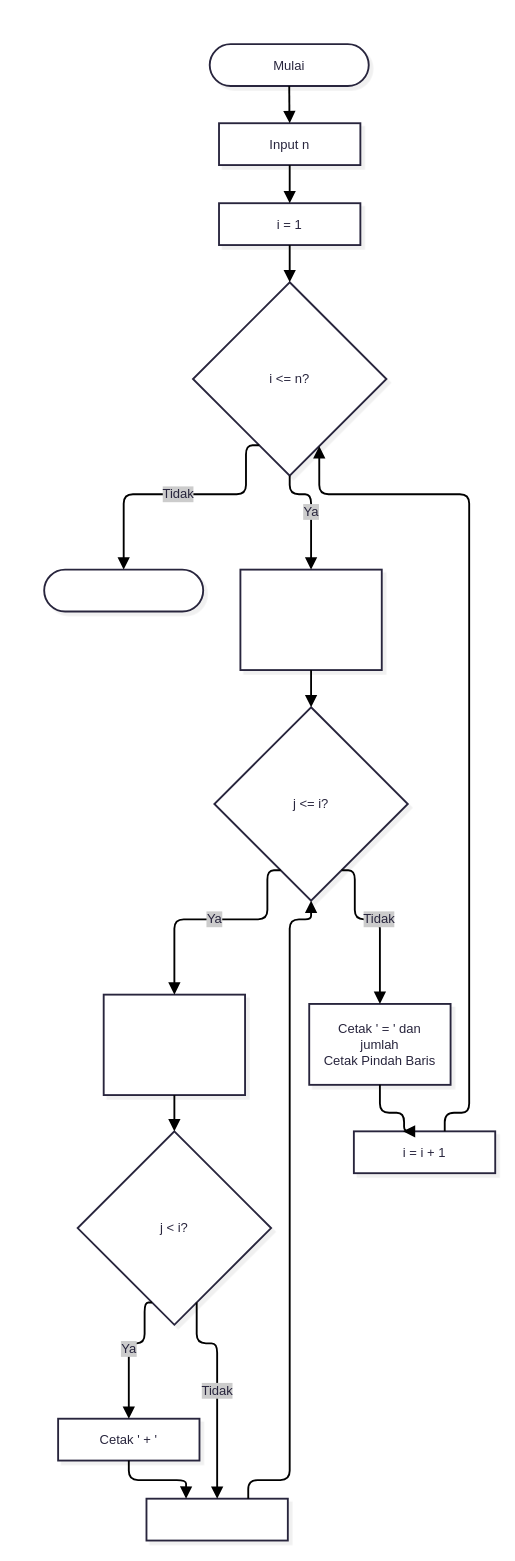
Image size: 515x1561. Some labels were removed from this diagram. The shapes that lost their labels are listed below. From the top down, each one's centre as x and y in pixels, then its label:
[125,592]: Selesai
[312,621]: jumlah = 0 j = 1 Cetak 'n = i -> jumlah kuadrat = '
[175,1046]: sub_total = j * j jumlah = jumlah + sub_total Cetak sub_total
[218,1521]: j = j + 1
